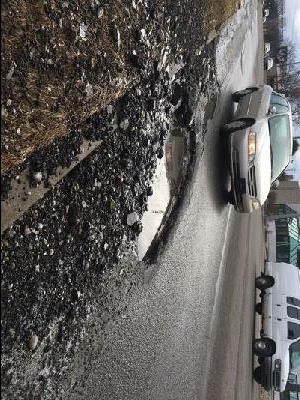pothole: (132, 112, 199, 268), (199, 89, 220, 135)
